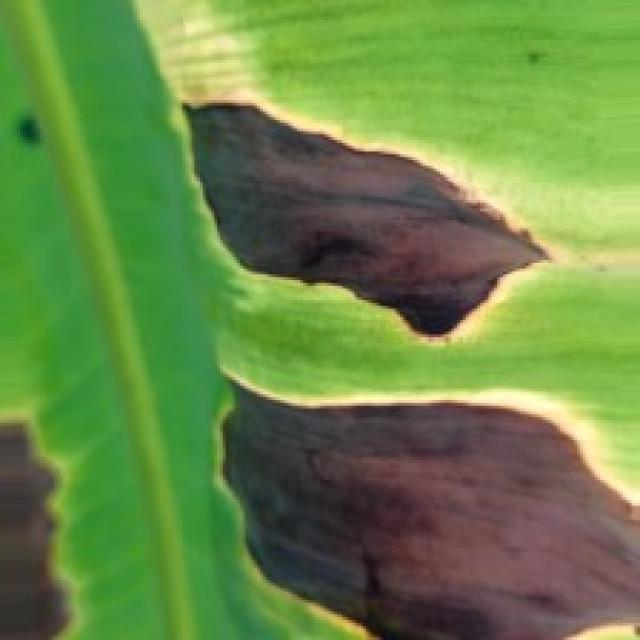Bacterial_spot: (208, 340, 640, 640), (171, 93, 561, 353)
